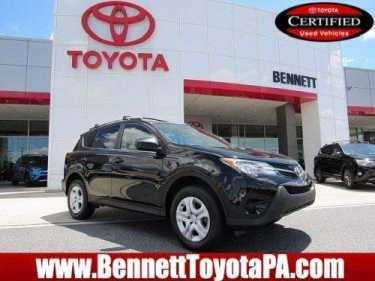Toyota RAV-4: (61, 117, 318, 251)
